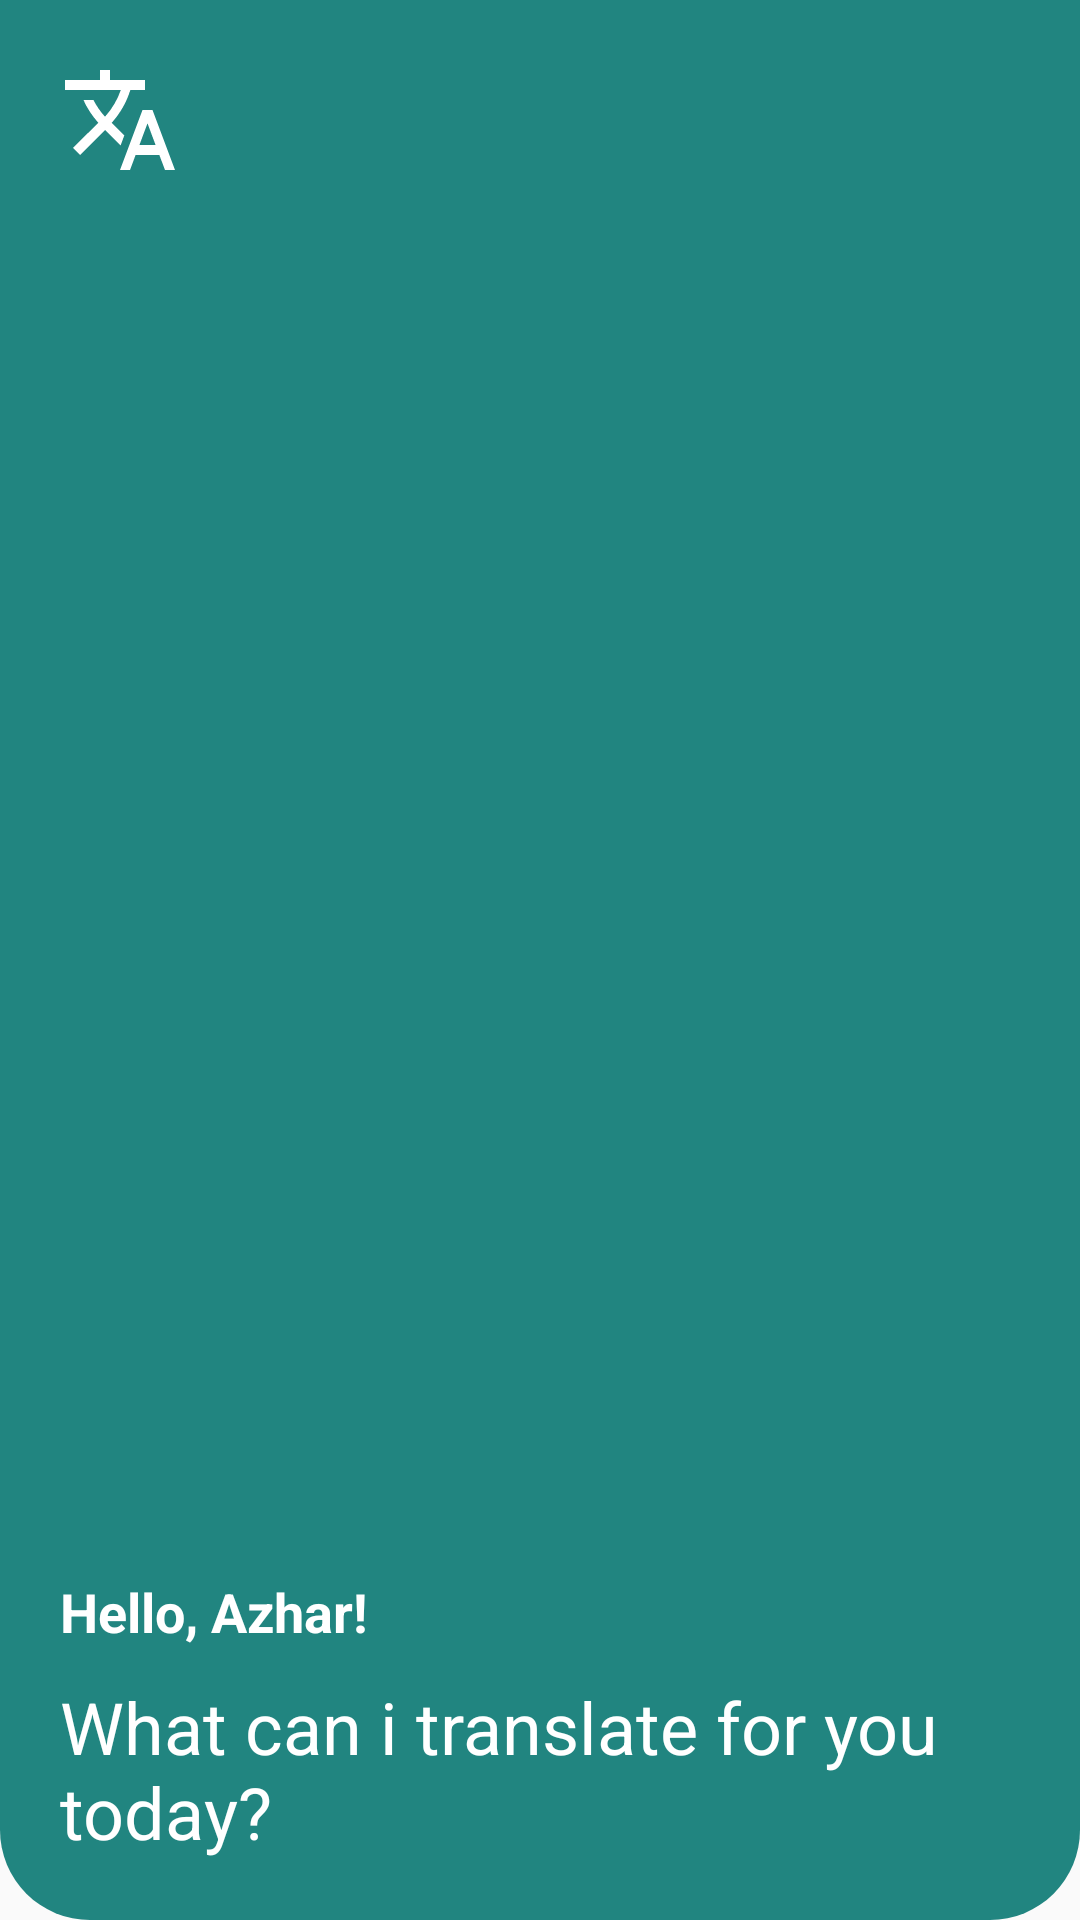

Named icons in this screenshot (1080px×1920px) and their centers, (x,y):
translate: (120,120)
